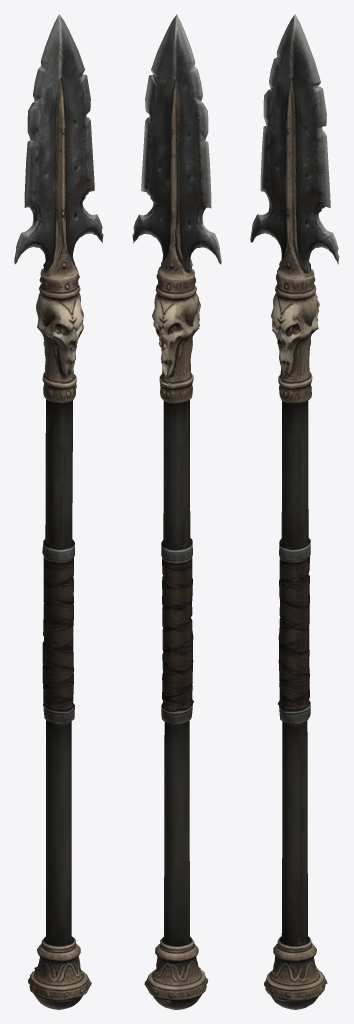
Rendered from spear-8fb5053d8d3c.glb.
3 renders of one model, left to right at view 1: azimuth 30°, elevation 25°; view 2: azimuth 150°, elevation 25°; view 3: azimuth 330°, elevation 25°, orthographic.
Size of the model in its own units: 0.0893 by 0.9512 by 0.0532.
1 material, 1 textured.
